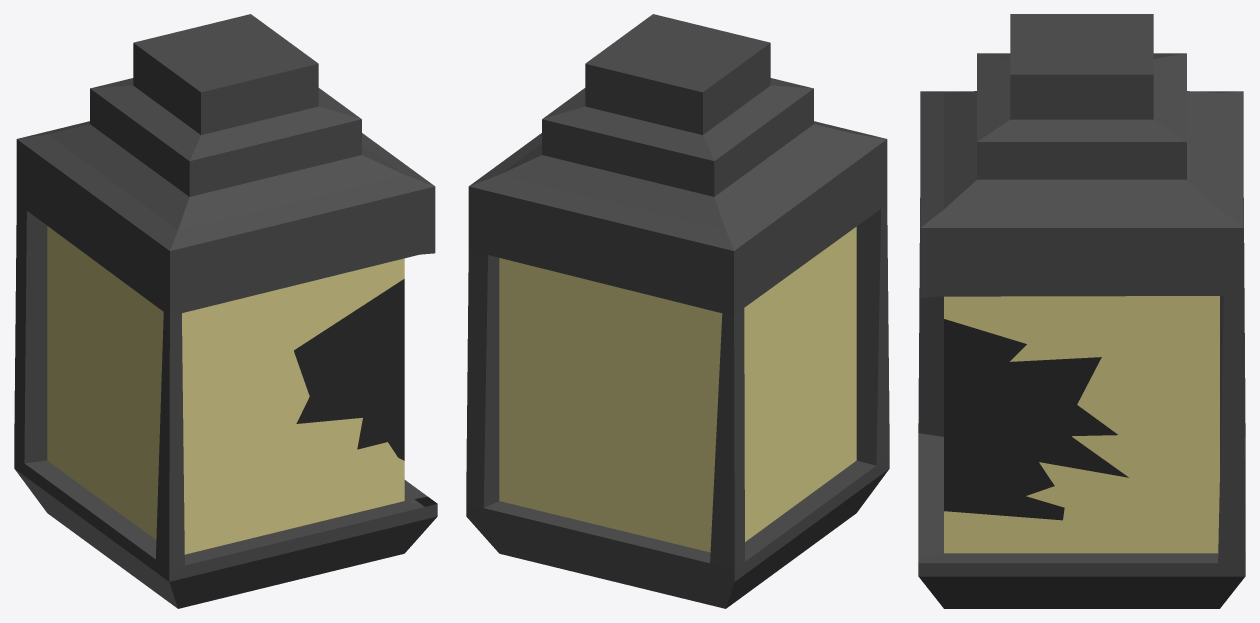
Rendered from CrackedLantern.fbx.
3 renders of one model, left to right at view 1: azimuth 30°, elevation 25°; view 2: azimuth 150°, elevation 25°; view 3: azimuth 270°, elevation 25°, orthographic. The views are drawn at different scales.
Parts seen in each view (by area): view 1: Cube; view 2: Cube; view 3: Cube.
Boxes of the visible parts, left/top/right/bottom form: Cube: left=14, top=14, right=437, bottom=608; Cube: left=466, top=14, right=889, bottom=608; Cube: left=918, top=14, right=1245, bottom=608.
Size of the model in its own units: 558 by 954 by 558.
